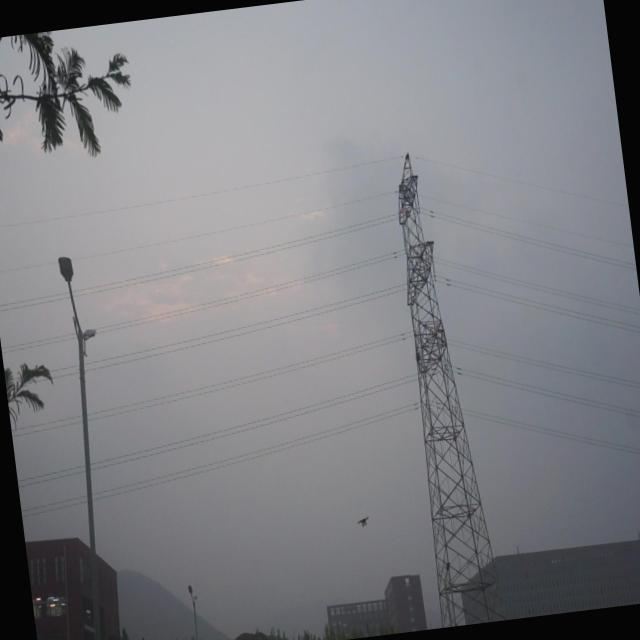drone: (354, 510, 370, 530)
